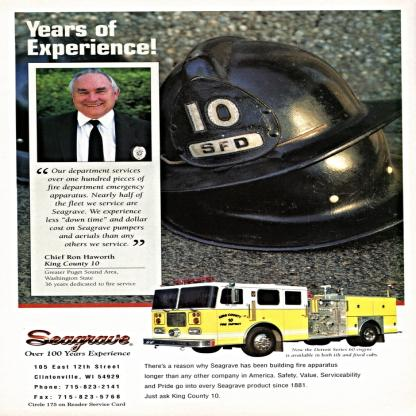Helmet: (159, 43, 376, 200)
